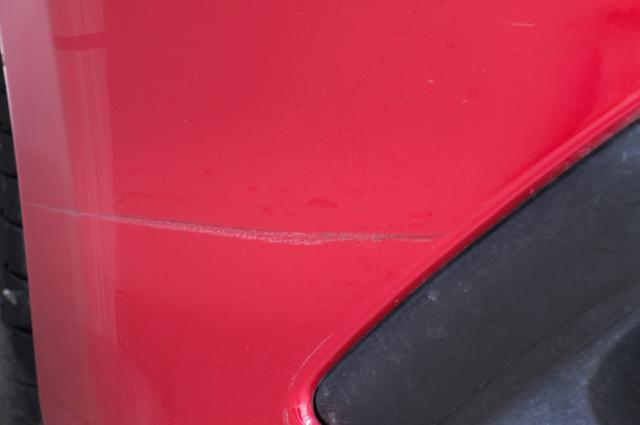Bumper: (17, 172, 484, 285)
